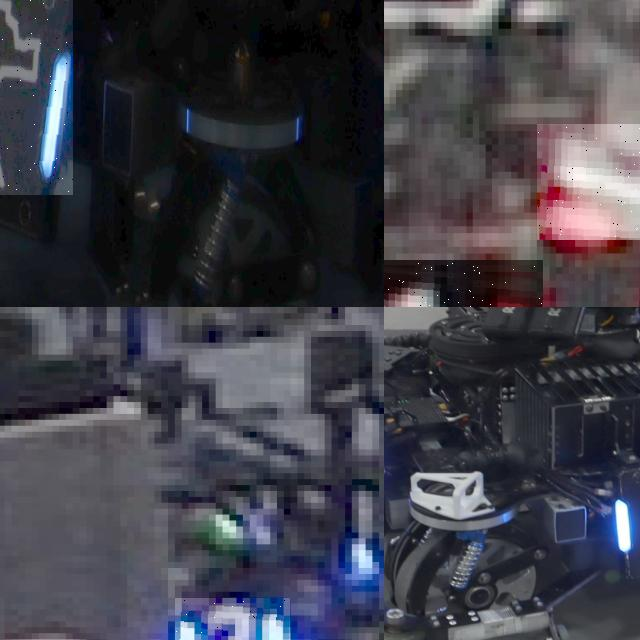B2: (174, 597, 290, 640)
Bs: (0, 0, 72, 195)
R1: (537, 124, 640, 239), (384, 260, 543, 307)
